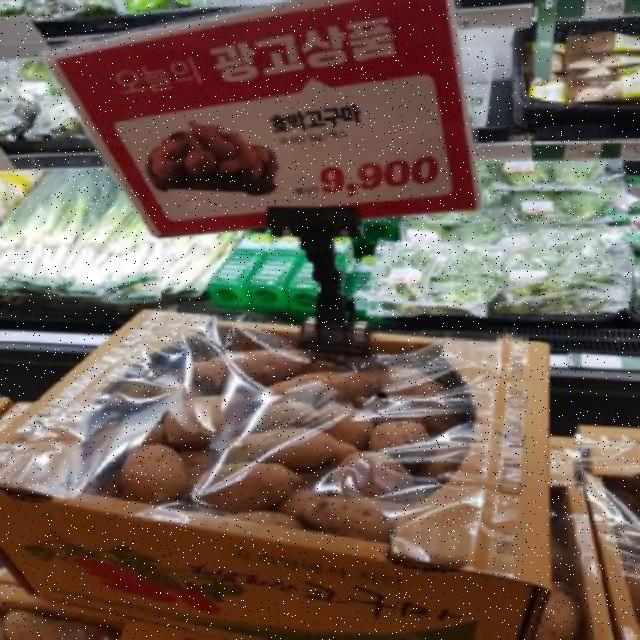Sweet Potato: (9, 314, 551, 614)
